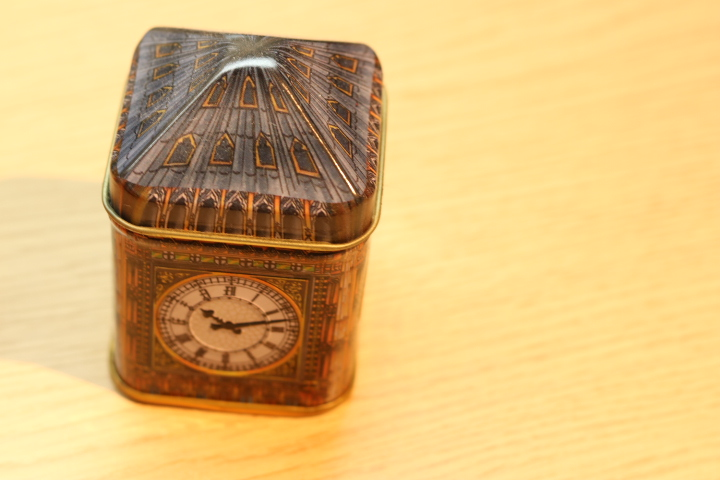Big Ben: (95, 16, 399, 429)
